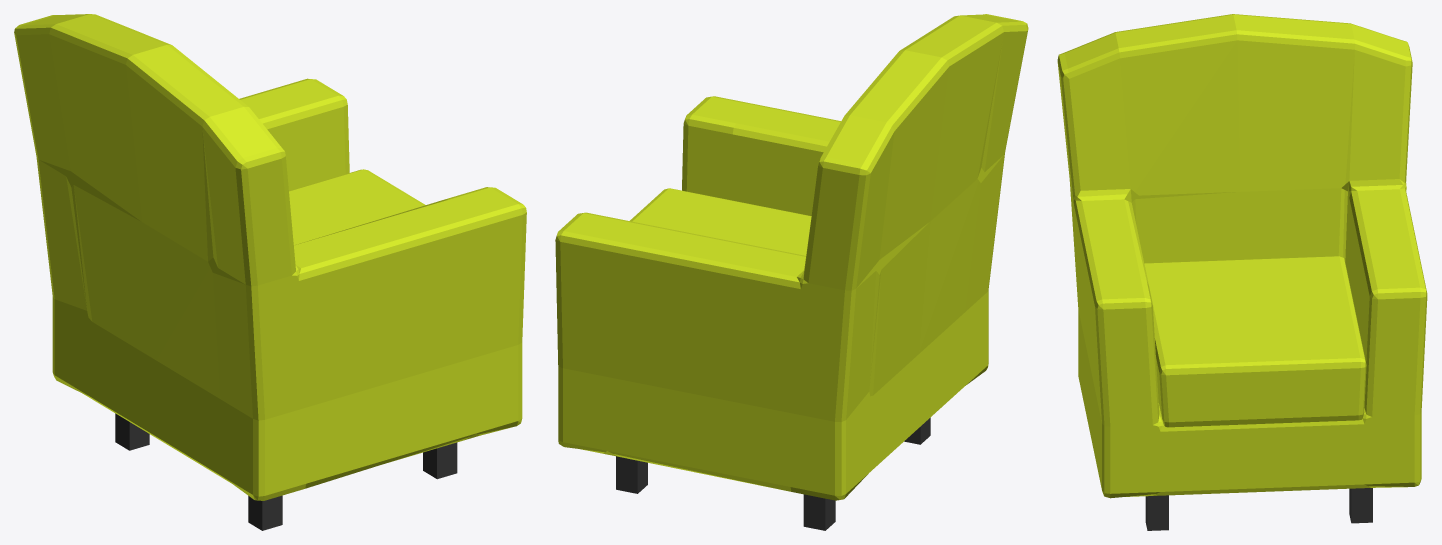
The model's file is Armchair.gltf.
3 renders of one model, left to right at view 1: azimuth 30°, elevation 25°; view 2: azimuth 150°, elevation 25°; view 3: azimuth 270°, elevation 25°, orthographic. The views are drawn at different scales.
Visible parts, largest first — view 1: node-0; view 2: node-0; view 3: node-0.
Part boxes in pixels (x1,y1,x2,y2): node-0: (14, 14, 526, 530); node-0: (555, 14, 1028, 530); node-0: (1057, 14, 1427, 530).
Bounding box in the file's own units: 111014 × 137411 × 115924.
